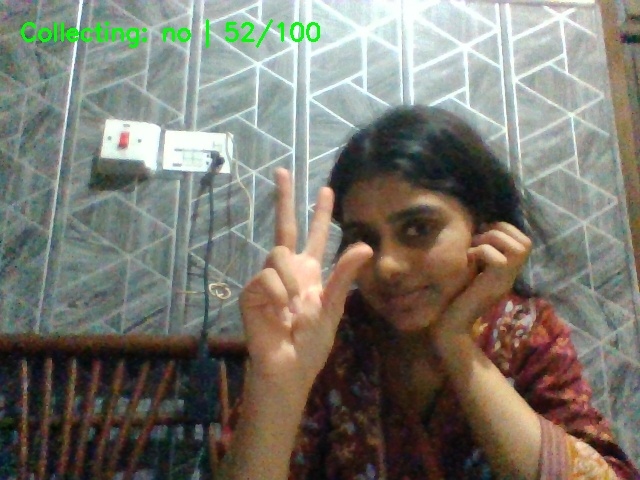no: (217, 163, 386, 411)
